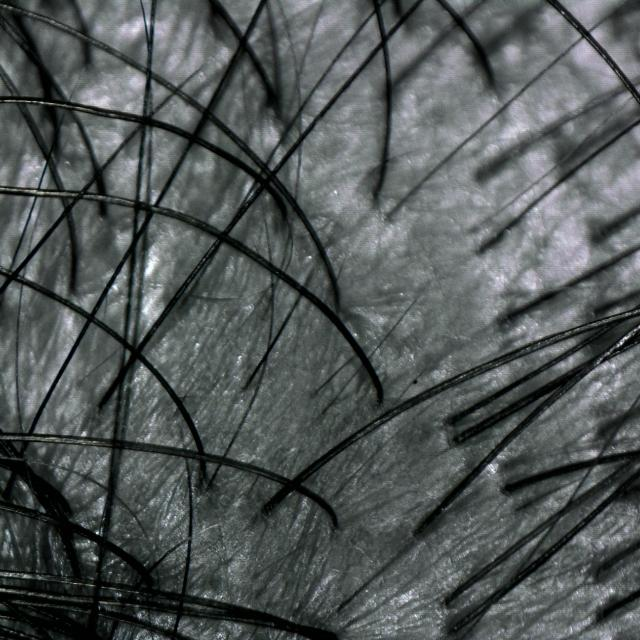roots: (384, 0, 412, 30), (588, 596, 612, 628), (591, 219, 614, 251), (594, 419, 619, 448), (490, 308, 514, 336), (588, 555, 610, 585), (478, 61, 503, 87), (62, 266, 85, 294), (472, 161, 496, 187), (93, 196, 115, 224), (501, 472, 522, 500), (450, 426, 473, 451), (476, 234, 498, 260), (80, 49, 100, 77), (444, 407, 464, 433), (263, 87, 284, 111), (91, 392, 111, 414), (49, 132, 67, 156), (442, 586, 460, 607), (57, 497, 75, 517), (140, 570, 158, 590), (332, 597, 350, 617), (413, 518, 429, 540), (327, 512, 344, 532), (262, 497, 278, 518), (240, 373, 256, 393), (372, 386, 388, 404), (70, 564, 85, 583), (448, 621, 463, 639), (370, 182, 384, 200), (311, 382, 325, 400), (204, 474, 218, 491), (318, 404, 332, 421), (385, 204, 398, 222), (331, 291, 344, 307)
